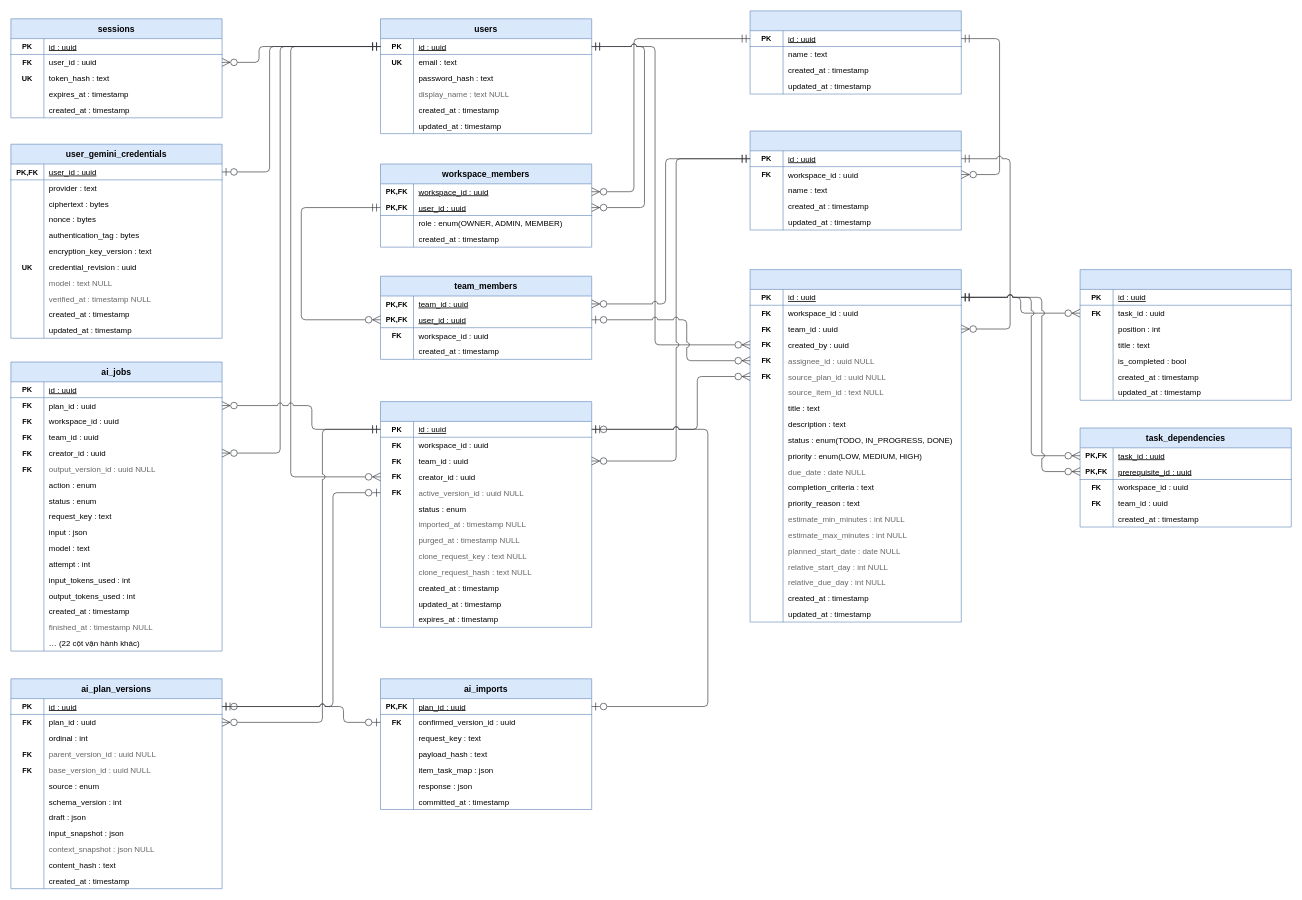
Image size: 1302x900. Some labels were removed from this diagram. The box of each missing label's shape, as (x1, y1, x2, y2) in pixels:
ai_plans: (380, 401, 592, 627)
task_subtasks: (1079, 269, 1291, 400)
tasks: (749, 269, 961, 622)
teams: (749, 130, 961, 230)
workspaces: (749, 10, 961, 94)
